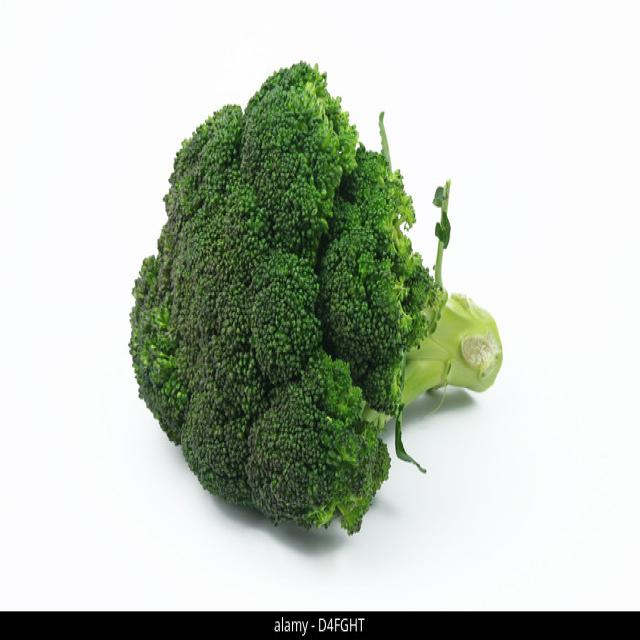broccoli: (124, 60, 505, 537)
